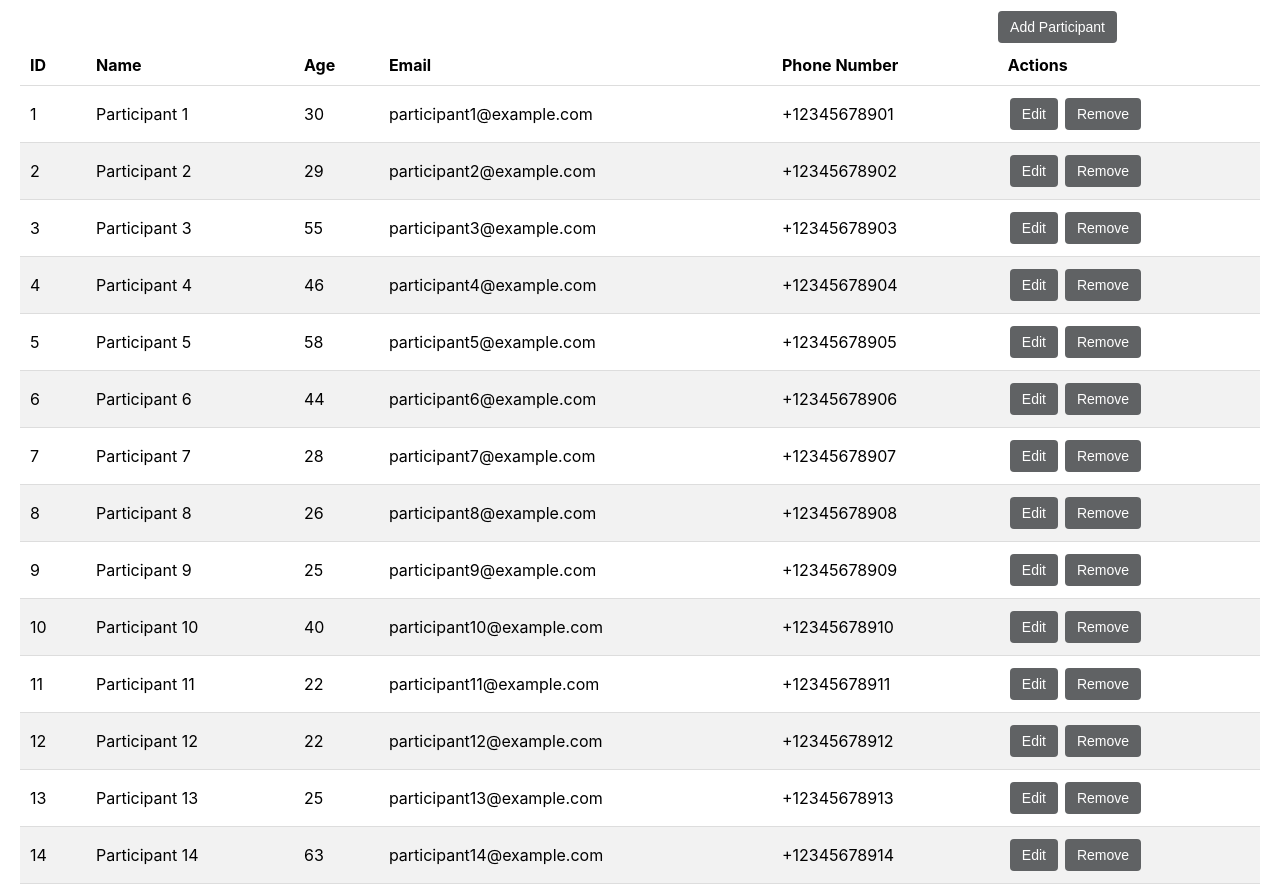
Test: ListParticipants component › allows adding a new participant
Click the button "Add Participant" at (1058, 27), box [998, 11, 1117, 43]
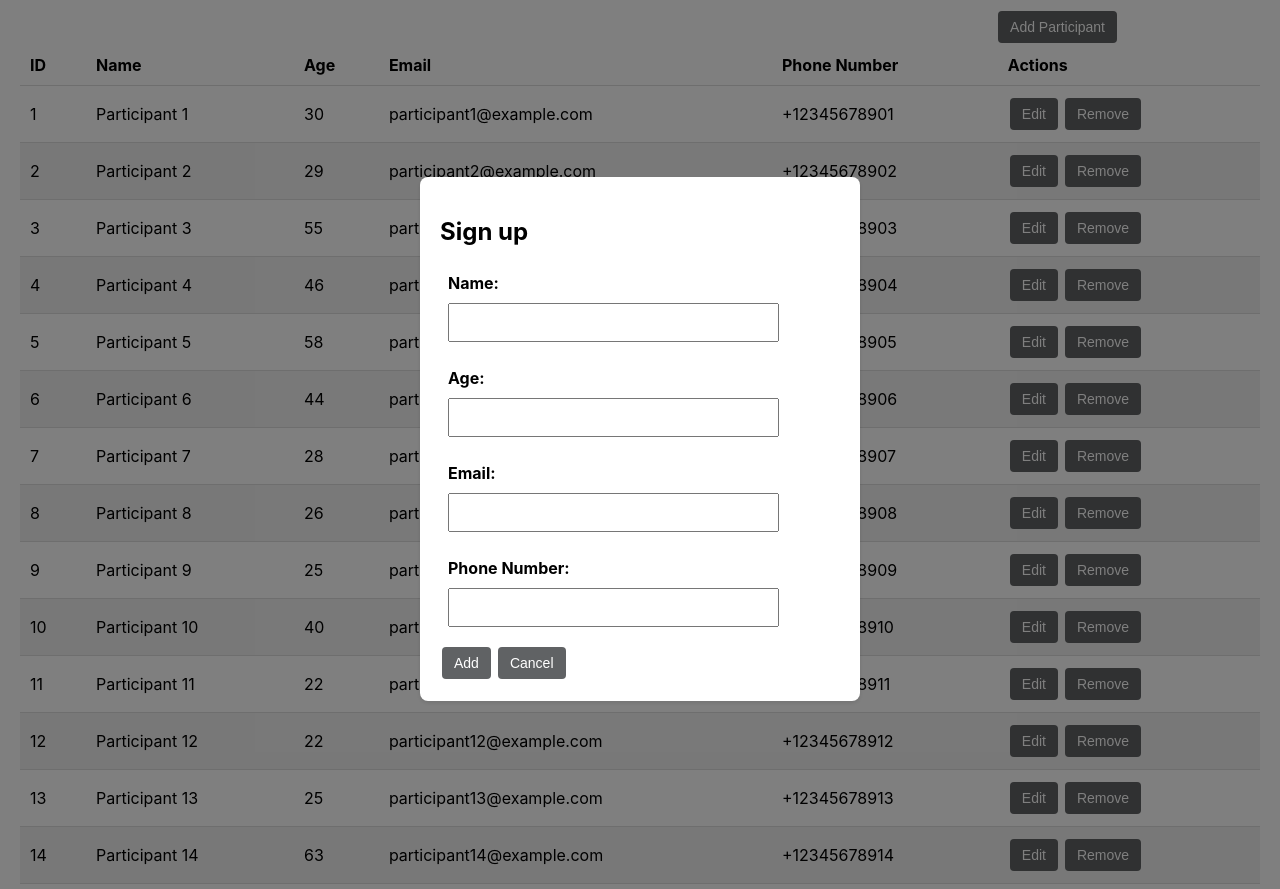
Type "John Doe" into the field labelled "Name:" at (614, 323), box [448, 303, 779, 342]
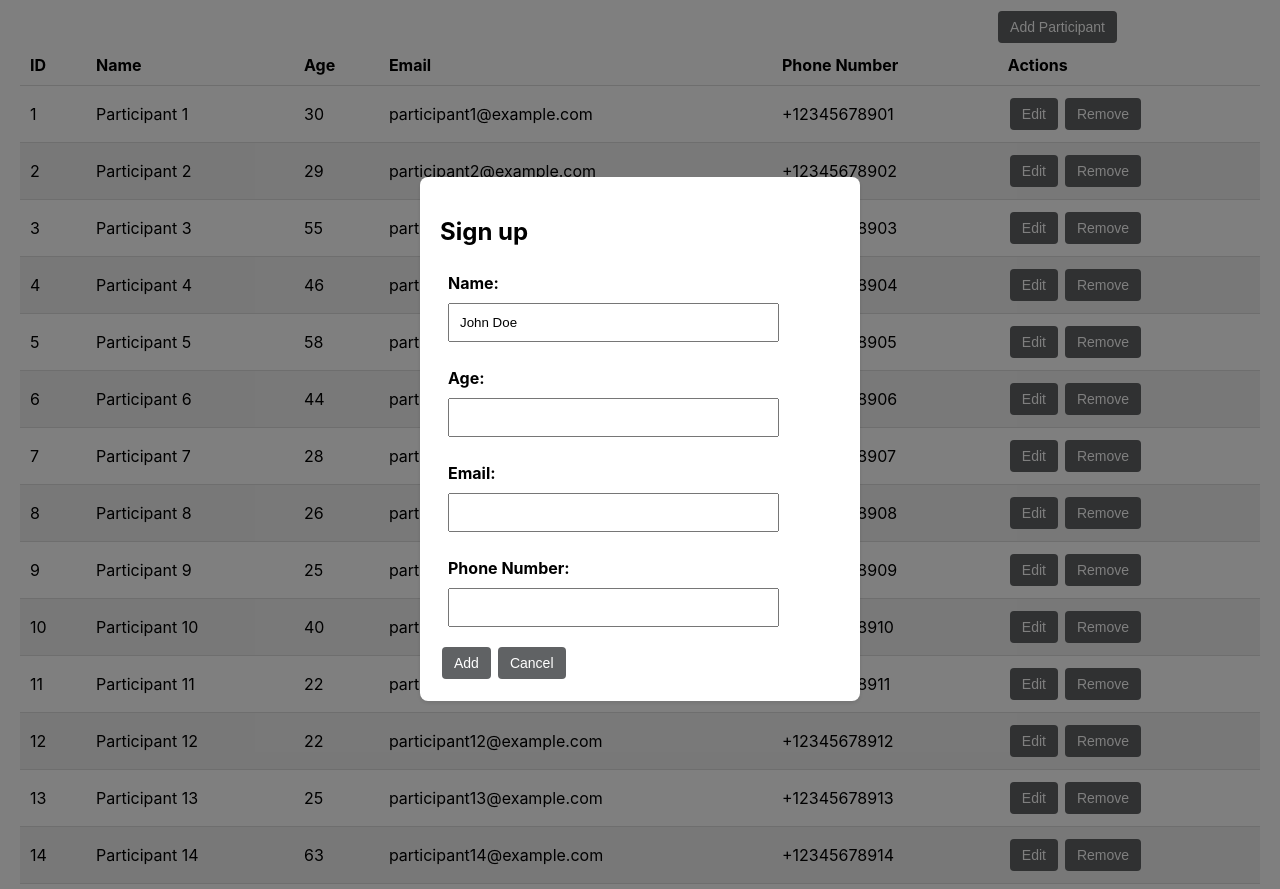
Type "30" into the number field labelled "Age:" at (614, 418), box [448, 398, 779, 437]
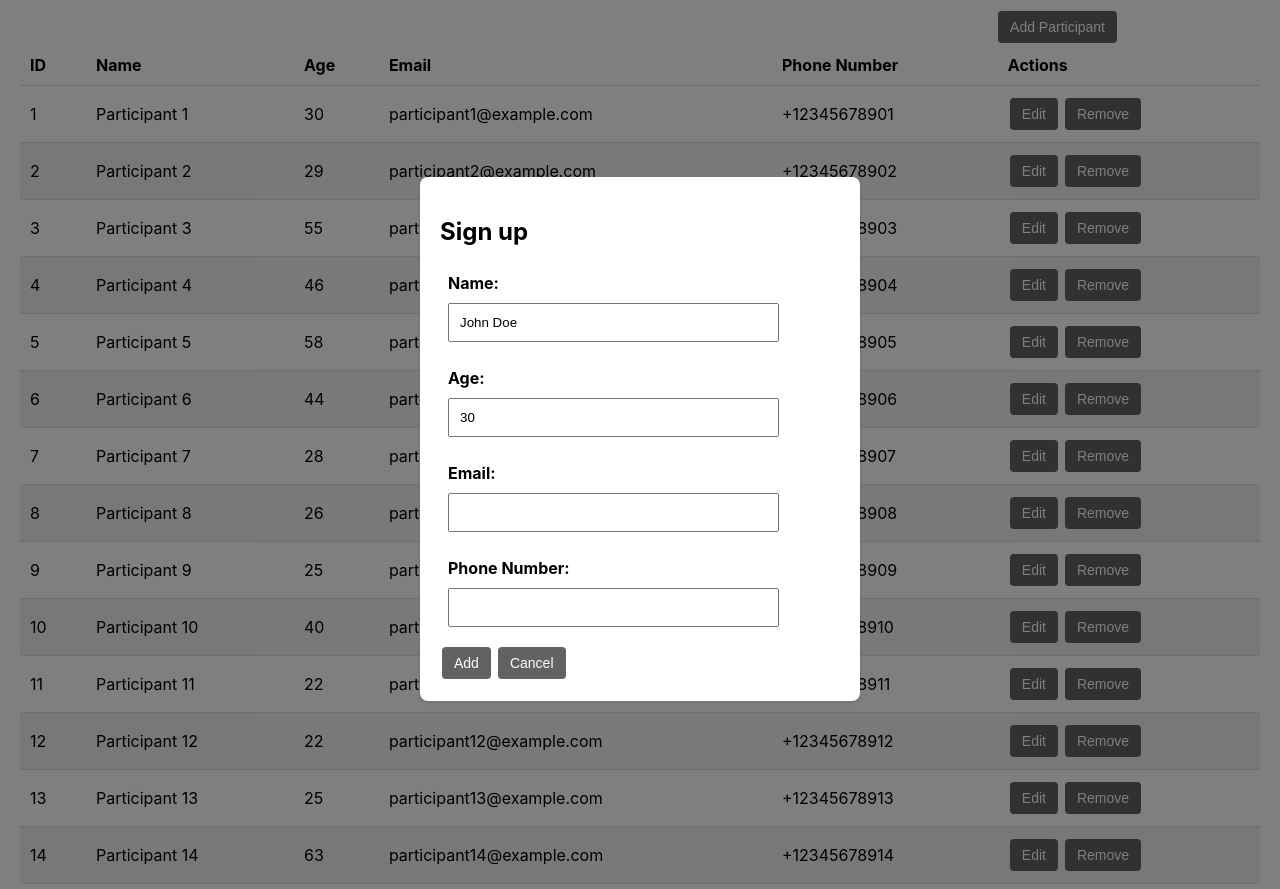
Type "john@example.com" into the field labelled "Email:" at (614, 513), box [448, 493, 779, 532]
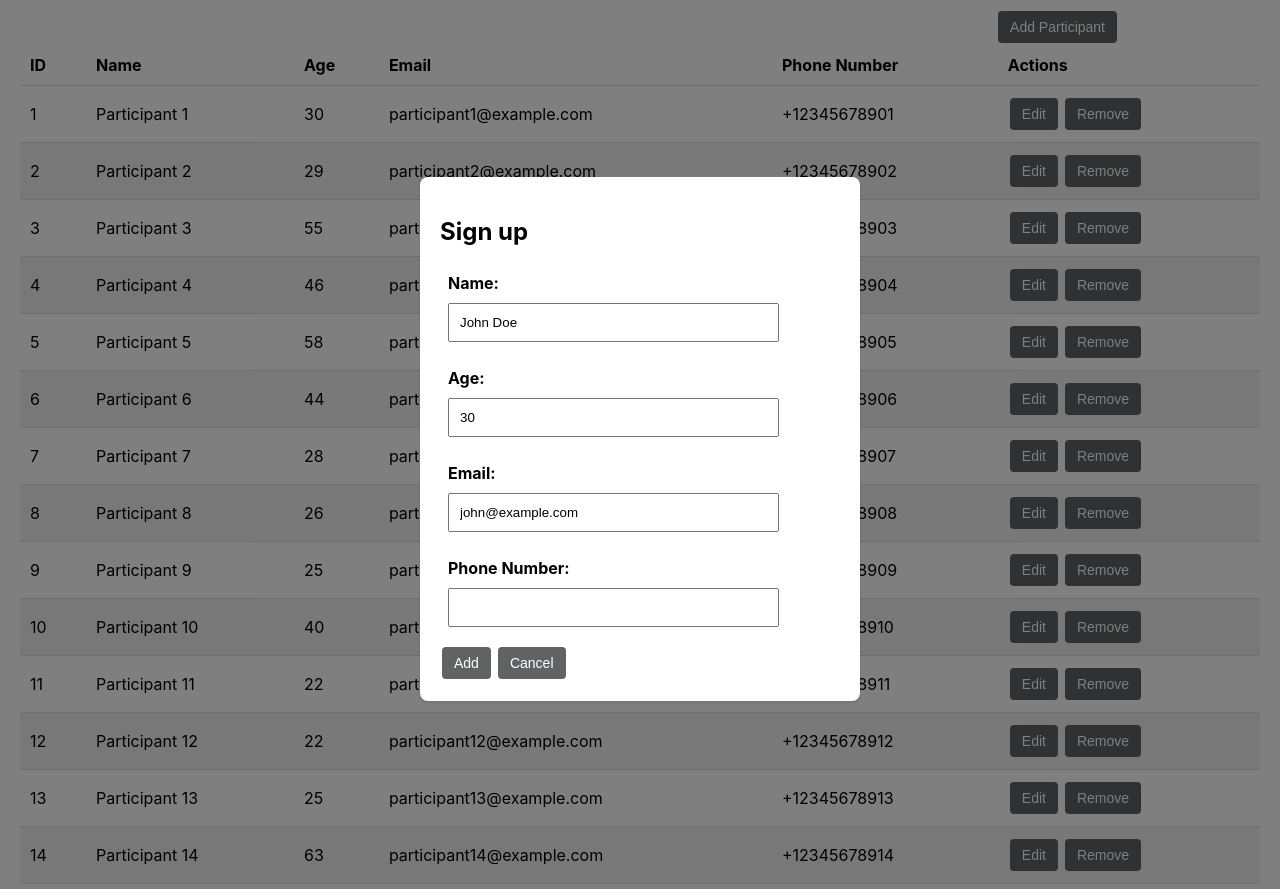
Type "+1234567890" into the field labelled "Phone Number:" at (614, 608), box [448, 588, 779, 627]
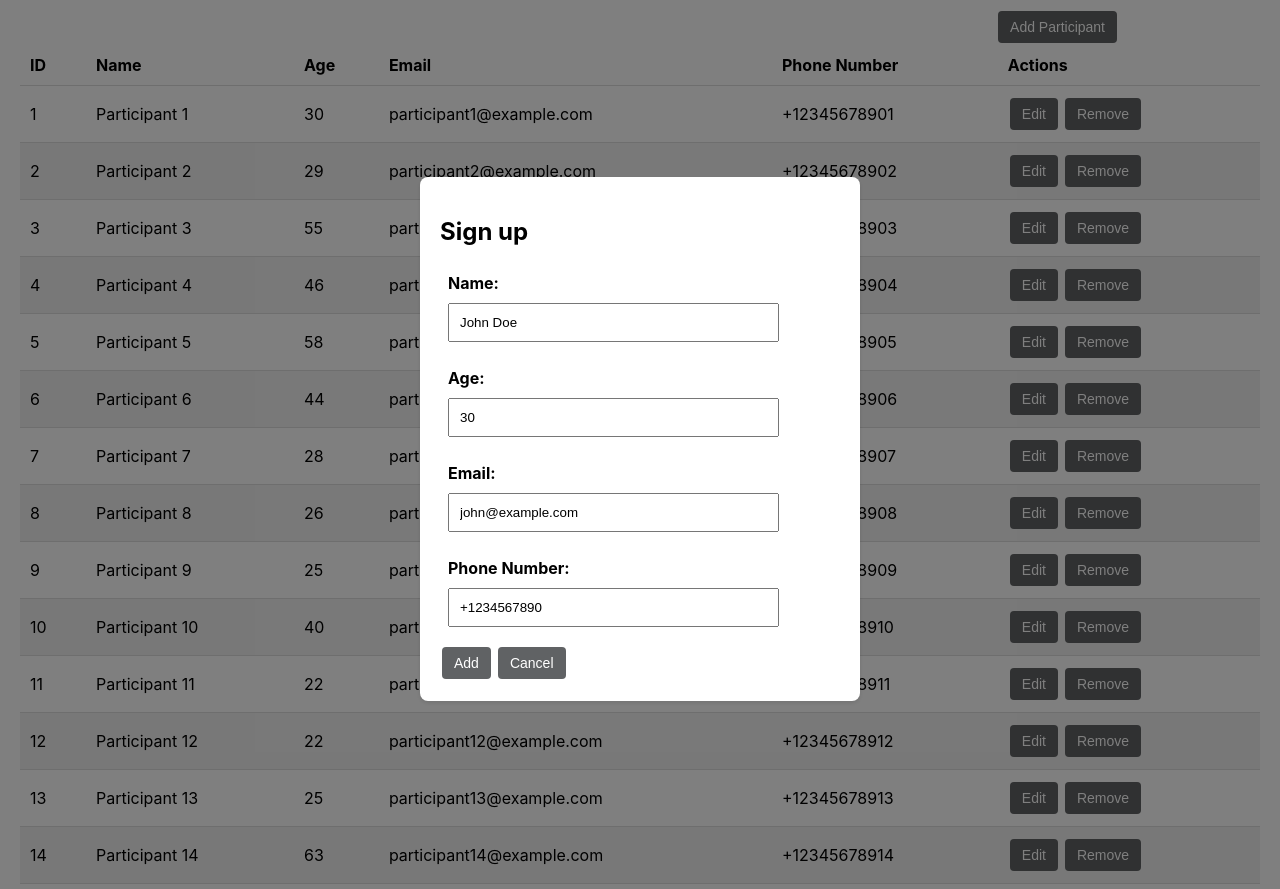
Click the button "Add" at (466, 663), box [442, 647, 491, 679]
(page scrolled)
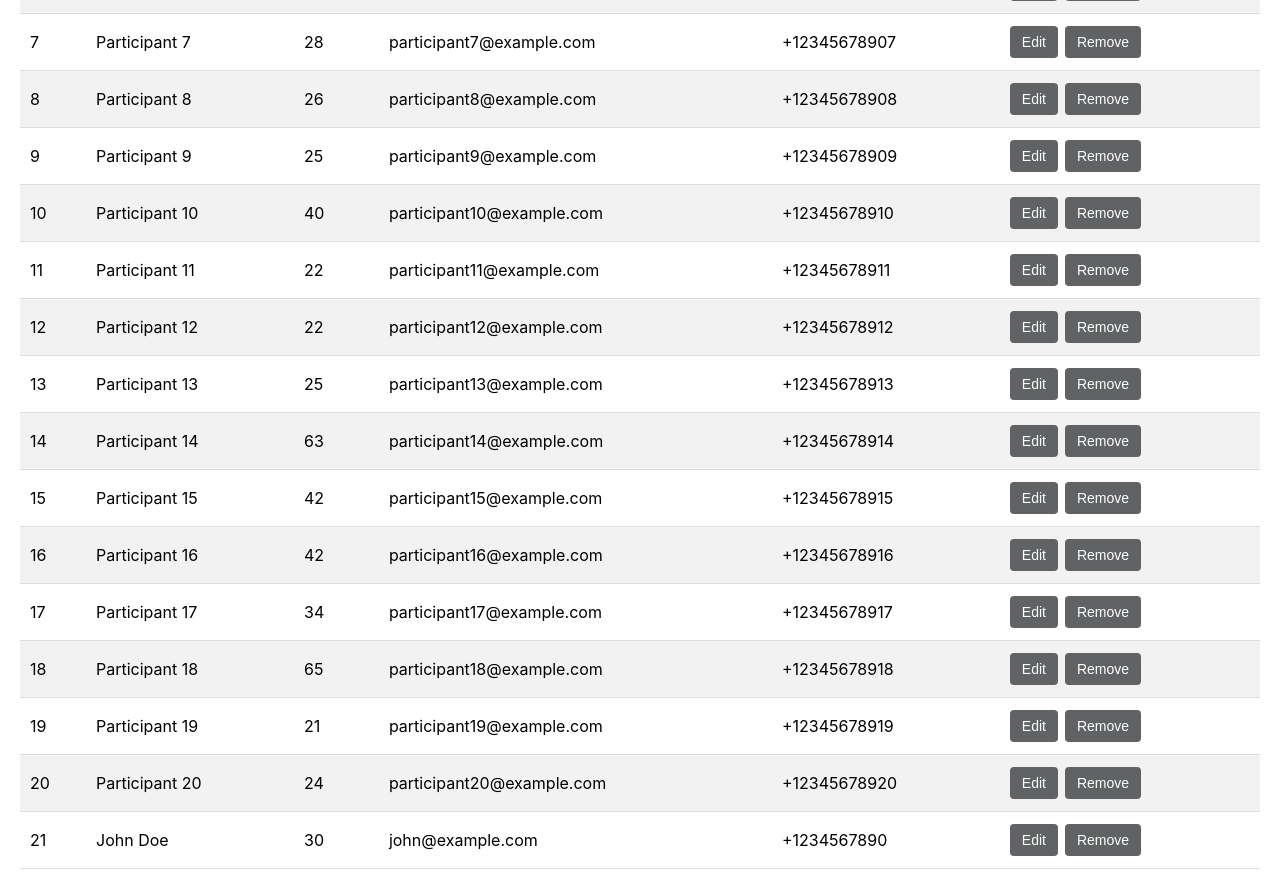
Now the text "John Doe" is shown, box [86, 812, 294, 868]
